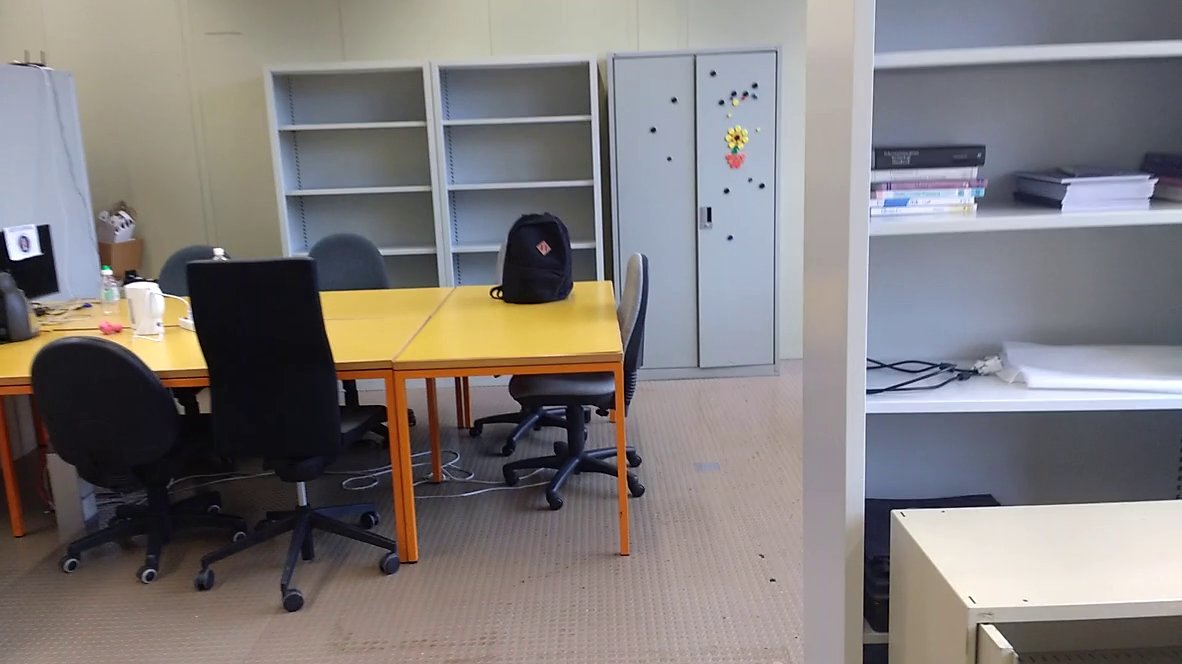bag: (489, 207, 578, 307)
chair: (180, 253, 419, 620), (13, 330, 238, 611), (504, 237, 679, 527), (293, 225, 403, 317)
